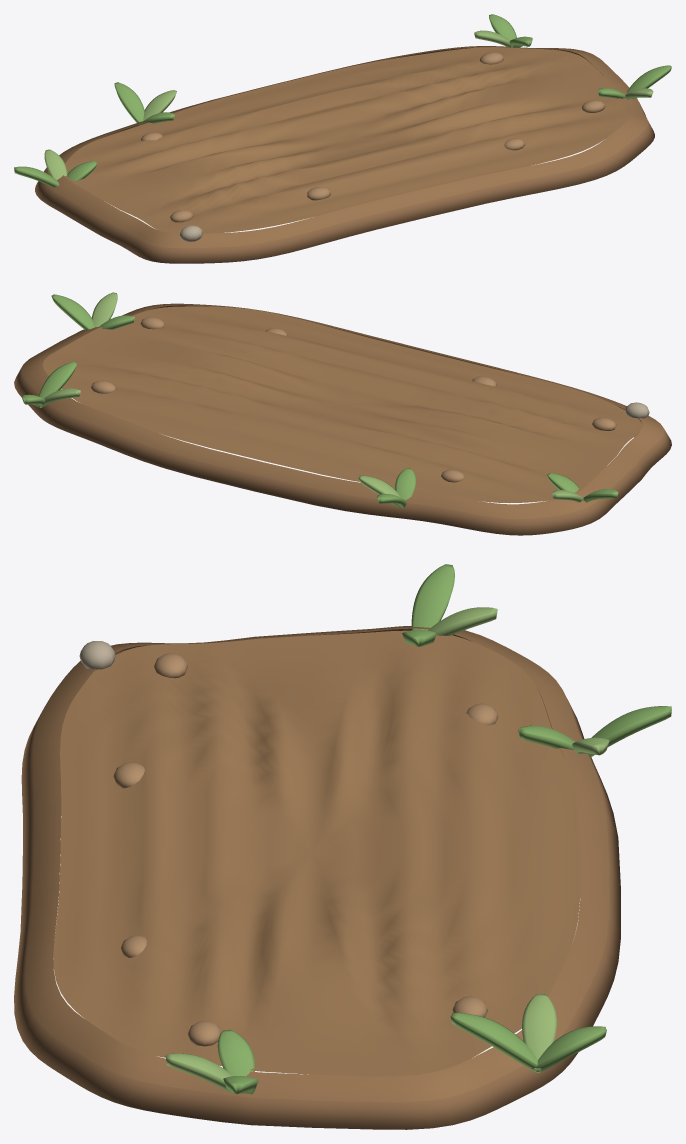
Rendered from soil_grass_patch.glb.
3 views of the same model, one above another, from view 1: azimuth 30°, elevation 25°; view 2: azimuth 150°, elevation 25°; view 3: azimuth 270°, elevation 25° (orthographic). The views are drawn at different scales.
Visible parts, largest first — view 1: Bed | continuous raked soil, Bed | soft earth cross section, Bed | sparse grass 3-2, Bed | sparse grass 2-2, Bed | sparse grass 3-1, Bed | sparse grass 0-1, Bed | sparse grass 0-2, Bed | sparse grass 1-0; view 2: Bed | continuous raked soil, Bed | soft earth cross section, Bed | sparse grass 2-2, Bed | sparse grass 1-2, Bed | sparse grass 2-1, Bed | sparse grass 3-0, Bed | sparse grass 3-1, Bed | sparse grass 0-0; view 3: Bed | continuous raked soil, Bed | soft earth cross section, Bed | sparse grass 1-2, Bed | sparse grass 0-2, Bed | sparse grass 1-1, Bed | sparse grass 1-0, Bed | sparse grass 3-2, Bed | sparse grass 2-0, Bed | sparse grass 2-1, Bed | sparse grass 0-1, Bed | sparse grass 3-0, Bed | edge pebble.
Part boxes in pixels (box(x1,y1,x2,y2)): Bed | continuous raked soil: box(65, 47, 627, 233); Bed | soft earth cross section: box(35, 46, 654, 263); Bed | sparse grass 3-2: box(114, 82, 144, 122); Bed | sparse grass 2-2: box(626, 65, 671, 93); Bed | sparse grass 3-1: box(139, 90, 176, 125); Bed | sparse grass 0-1: box(44, 149, 67, 179); Bed | sparse grass 0-2: box(14, 166, 59, 187); Bed | sparse grass 1-0: box(489, 14, 516, 40); Bed | continuous raked soil: box(43, 306, 642, 503); Bed | soft earth cross section: box(14, 303, 671, 535); Bed | sparse grass 2-2: box(51, 294, 94, 329); Bed | sparse grass 1-2: box(38, 361, 76, 407); Bed | sparse grass 2-1: box(92, 292, 117, 327); Bed | sparse grass 3-0: box(395, 468, 415, 508); Bed | sparse grass 3-1: box(358, 475, 400, 497); Bed | sparse grass 0-0: box(547, 473, 578, 492); Bed | continuous raked soil: box(53, 630, 580, 1076); Bed | soft earth cross section: box(14, 626, 620, 1129); Bed | sparse grass 1-2: box(450, 1013, 537, 1072); Bed | sparse grass 0-2: box(411, 564, 454, 630); Bed | sparse grass 1-1: box(522, 994, 556, 1072); Bed | sparse grass 1-0: box(531, 1026, 606, 1072); Bed | sparse grass 3-2: box(591, 706, 671, 747); Bed | sparse grass 2-0: box(217, 1030, 255, 1076); Bed | sparse grass 2-1: box(165, 1053, 233, 1092); Bed | sparse grass 0-1: box(428, 607, 497, 635); Bed | sparse grass 3-0: box(518, 725, 575, 750); Bed | edge pebble: box(79, 641, 115, 671).
Bounding box in the file's own units: 2.19 × 0.1477 × 1.17.
